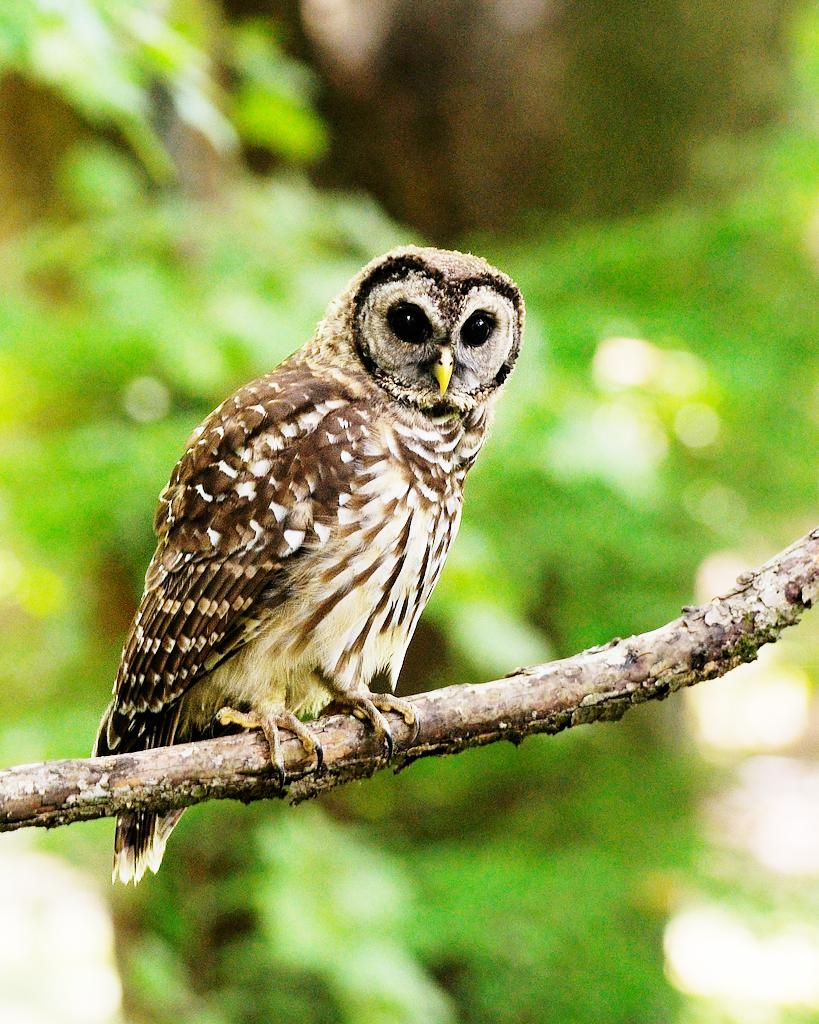Owl: (80, 240, 528, 896)
